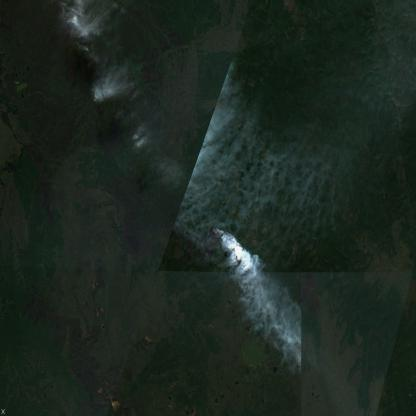fire: (210, 223, 238, 252)
